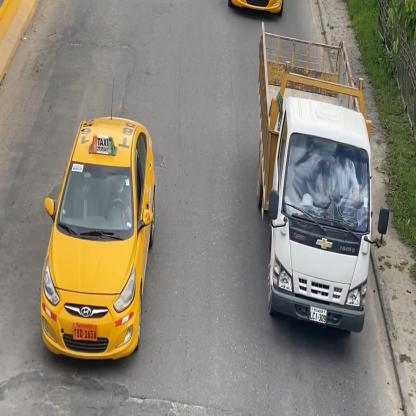Placa: (73, 320, 98, 344), (309, 306, 326, 327)
